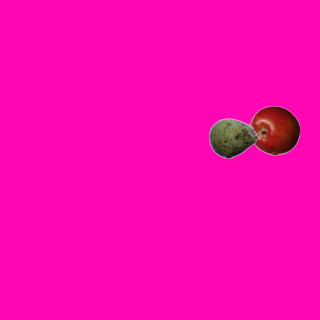Apple Braeburn: (249, 105, 299, 155)
Pear Stone: (208, 113, 258, 163)
